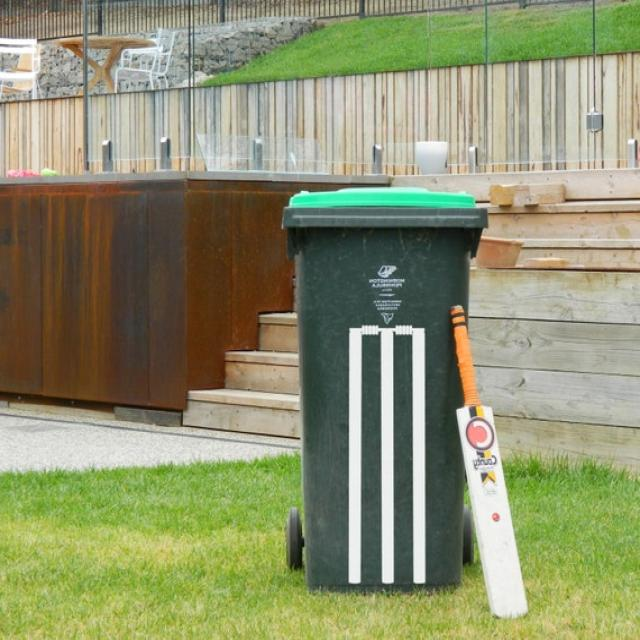stump: (348, 324, 426, 586)
